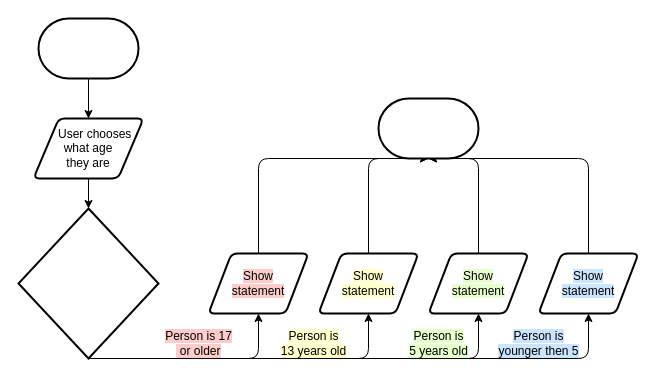
Image size: 656x384. Some labels were removed from this diagram. The centre of each missing label's shape, as x and y in pixels:
"Start" belongs at point 88,48.
"Stop" belongs at point 428,128.
"Users age determines what rated movie they can watch alone" belongs at point 88,283.
